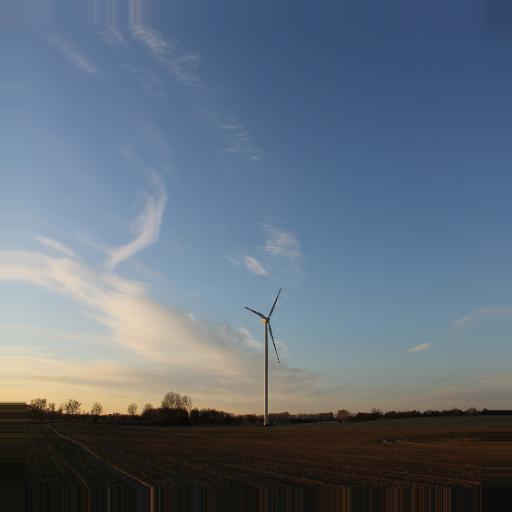wind turbine: (242, 288, 282, 422)
